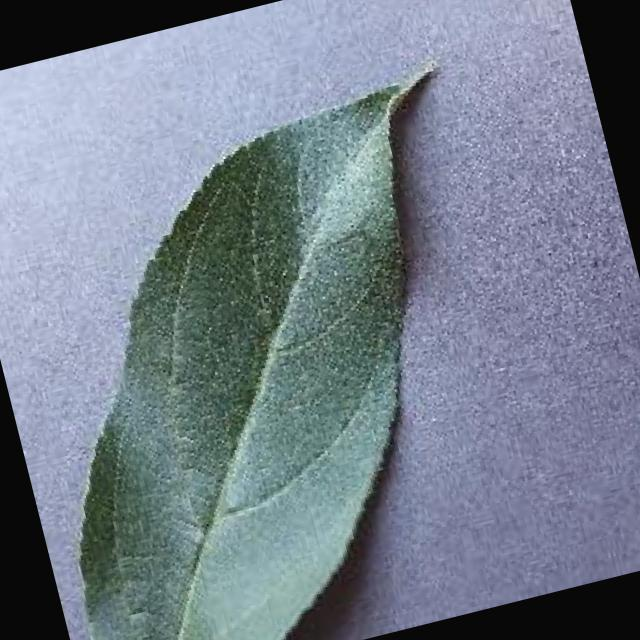healthy: (79, 80, 415, 640)
